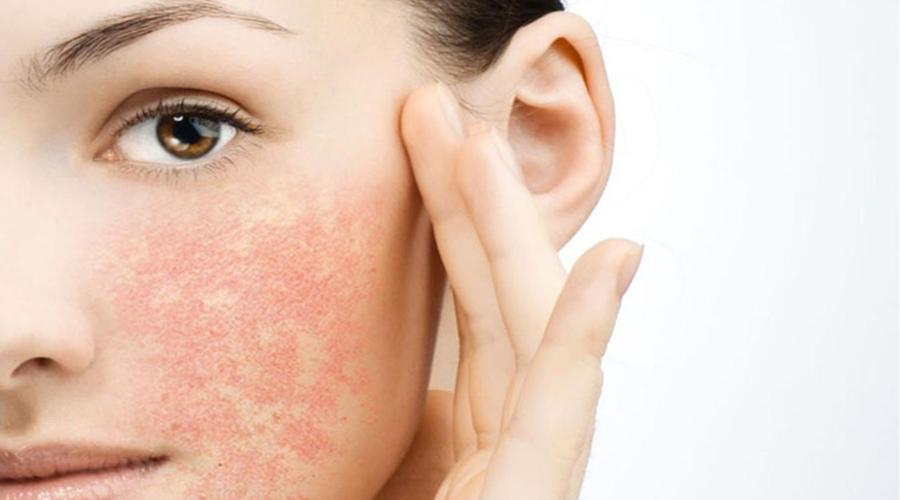Acne: (175, 273, 356, 463)
